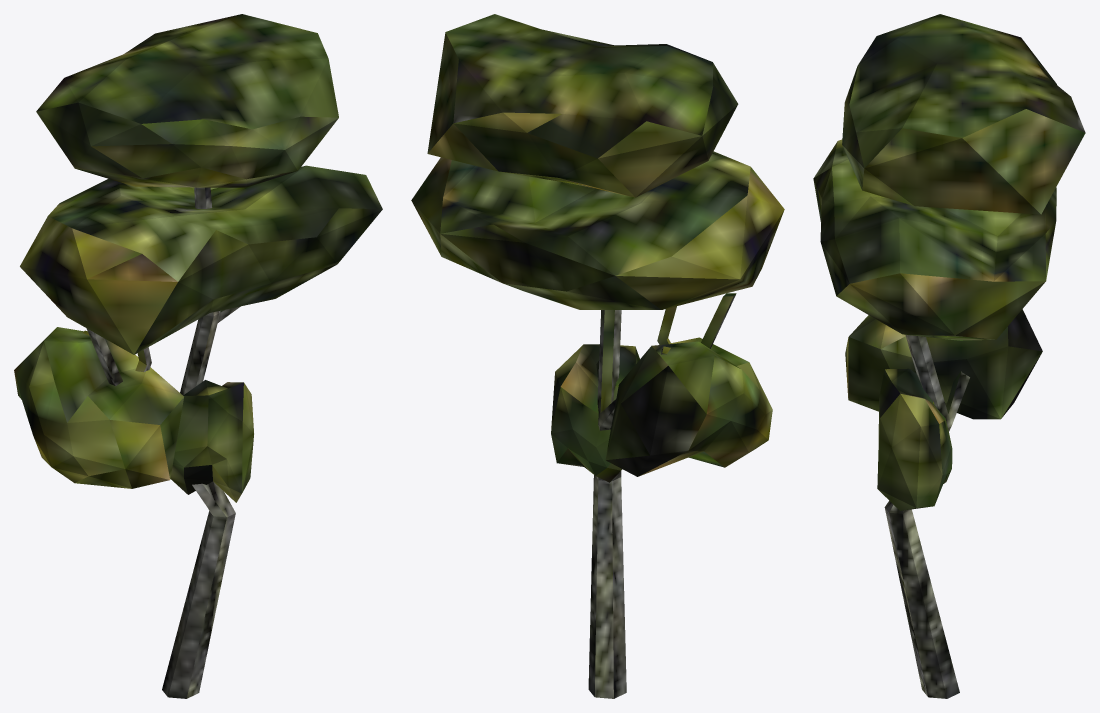
The model's file is tree_01.fbx.
3 renders of one model, left to right at view 1: azimuth 30°, elevation 25°; view 2: azimuth 150°, elevation 25°; view 3: azimuth 270°, elevation 25°, orthographic. The views are drawn at different scales.
Parts seen in each view (by area): view 1: Tree_Type3_05_fix_mesh; view 2: Tree_Type3_05_fix_mesh; view 3: Tree_Type3_05_fix_mesh.
Part boxes in pixels (x1,y1,x2,y2): Tree_Type3_05_fix_mesh: (14,14,382,698); Tree_Type3_05_fix_mesh: (411,14,784,698); Tree_Type3_05_fix_mesh: (813,14,1085,698).
Size of the model in its own units: 523 by 943 by 365.
1 material, 1 textured.
